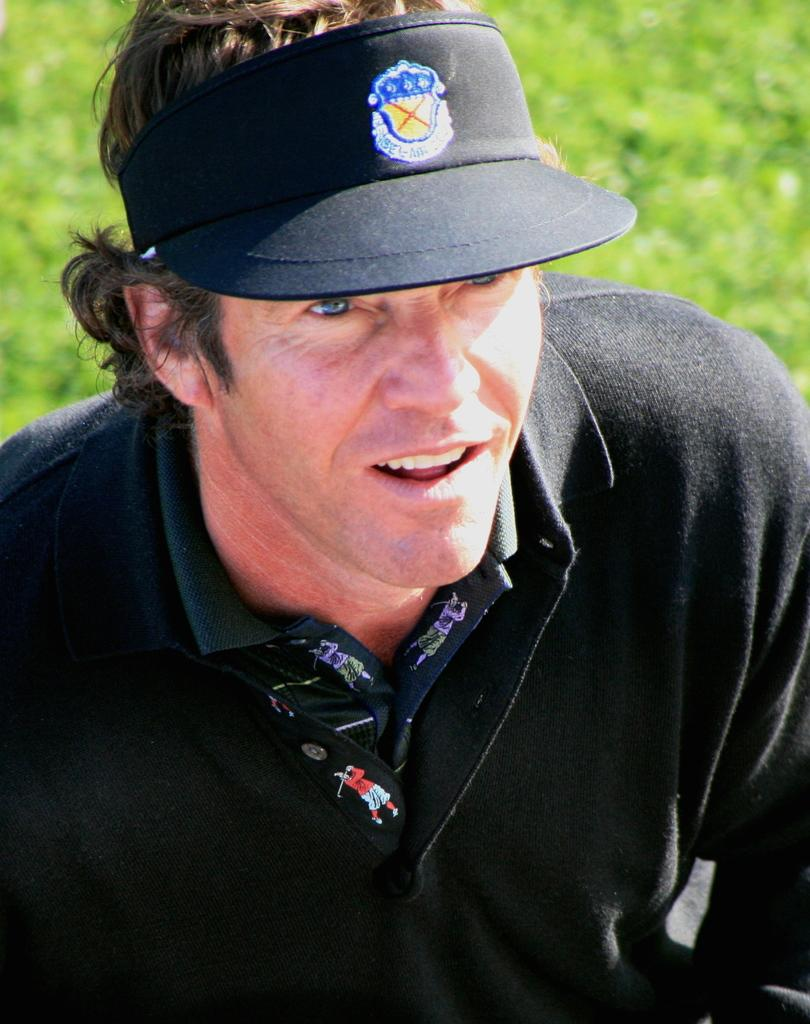Hat: (115, 10, 637, 300)
